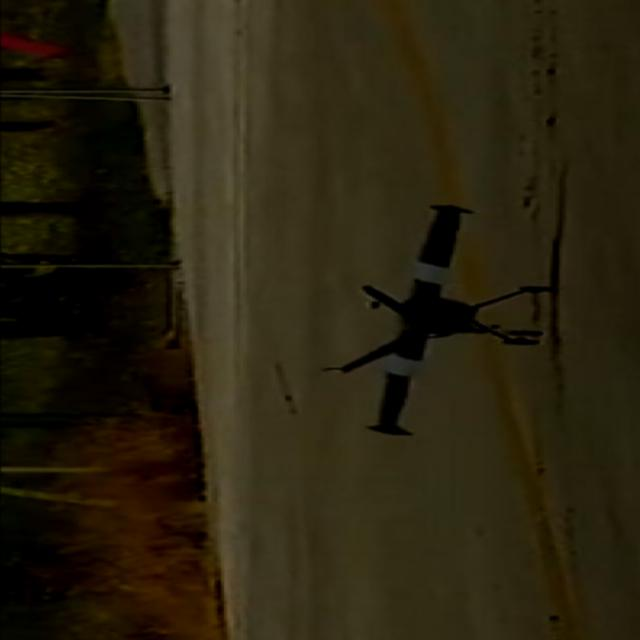plane: (319, 202, 554, 436)
